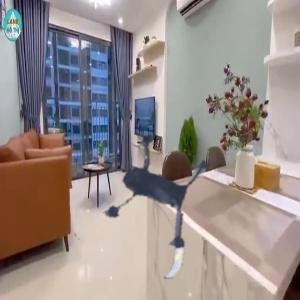drone: (62, 116, 232, 286)
